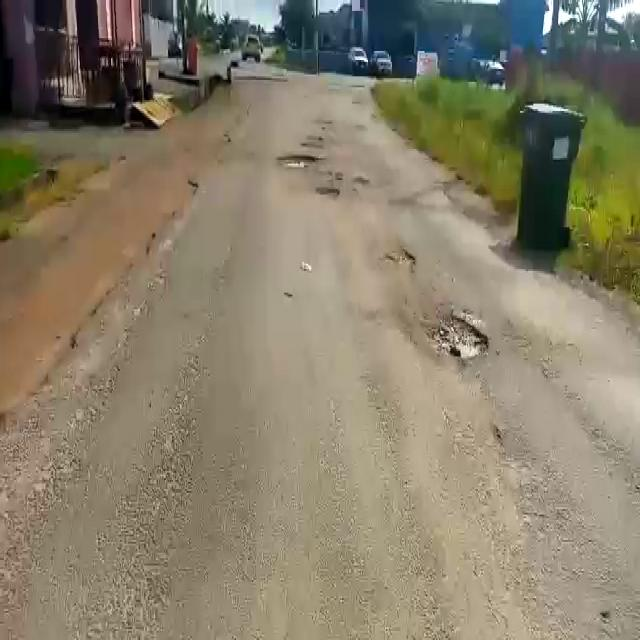Pothole: (422, 306, 492, 367), (381, 254, 418, 274), (281, 150, 321, 166), (314, 183, 339, 202)
